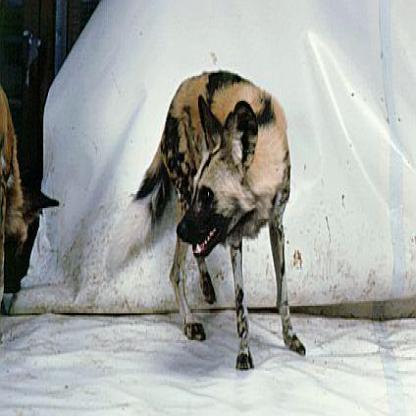African_hunting_dog: (103, 65, 306, 377), (0, 82, 59, 301)
